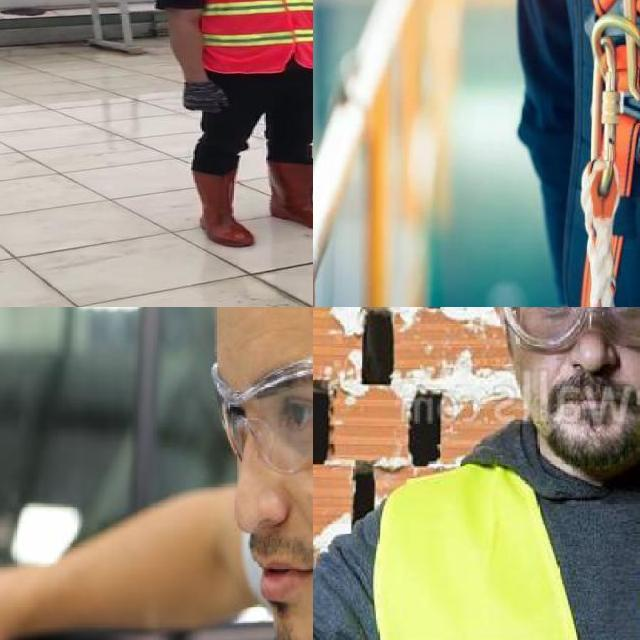Harness: (581, 0, 640, 307)
boots: (179, 166, 257, 250), (274, 157, 313, 231)
face_mask: (205, 309, 313, 473)
face_nomask: (207, 359, 313, 600), (522, 307, 640, 425)
glasses: (509, 307, 640, 352)
person: (320, 307, 640, 640), (147, 0, 313, 252)
vest: (388, 441, 640, 640), (177, 0, 313, 73)
